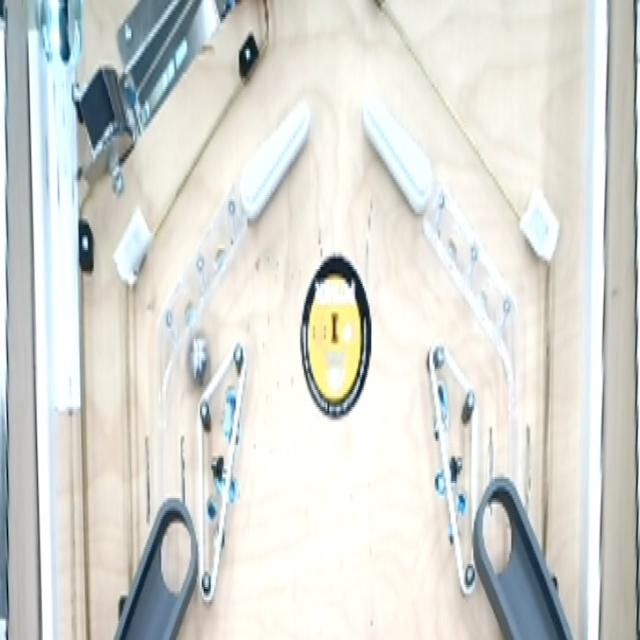ball: (185, 322, 212, 394)
flipper-left: (362, 95, 438, 223)
flipper-right: (236, 92, 312, 224)
